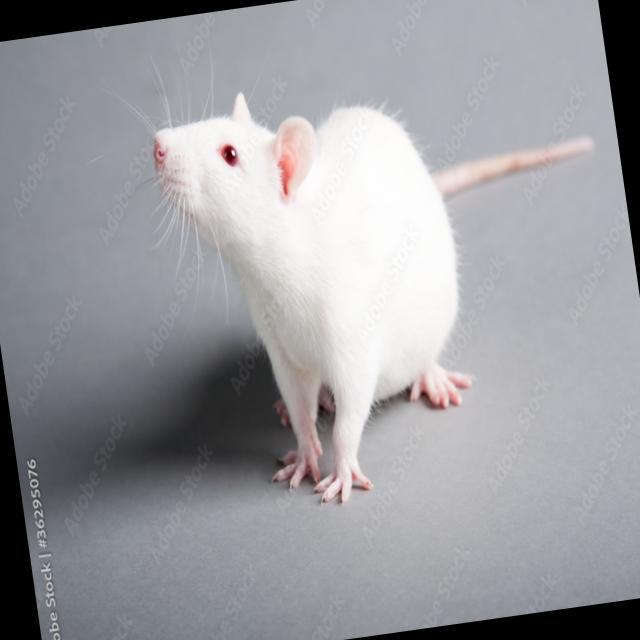rodent: (132, 57, 500, 544)
